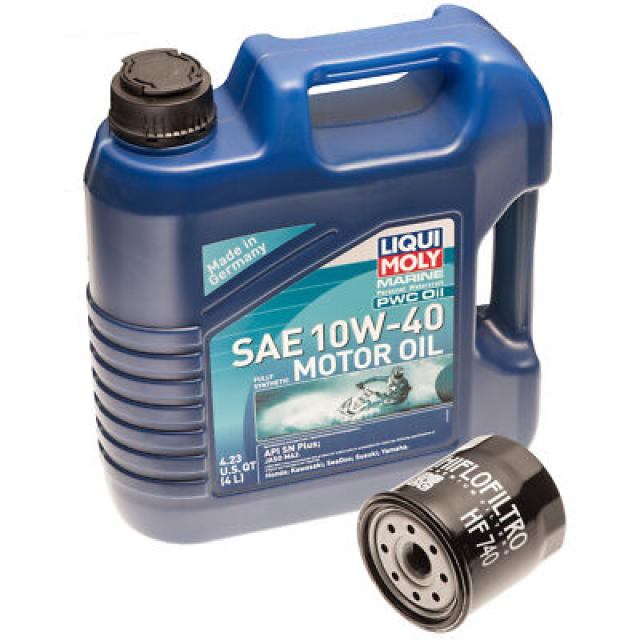motor_oil: (90, 2, 558, 550)
oil_filter: (348, 430, 568, 638)
